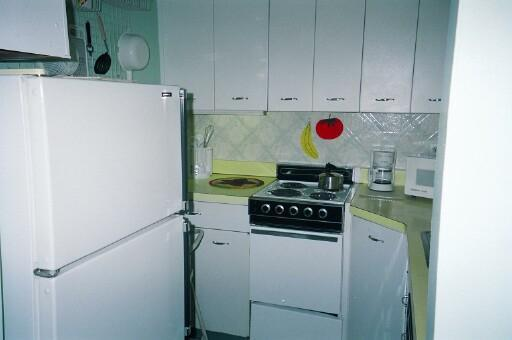Electrodomestico: (4, 76, 185, 337), (250, 193, 345, 339)
